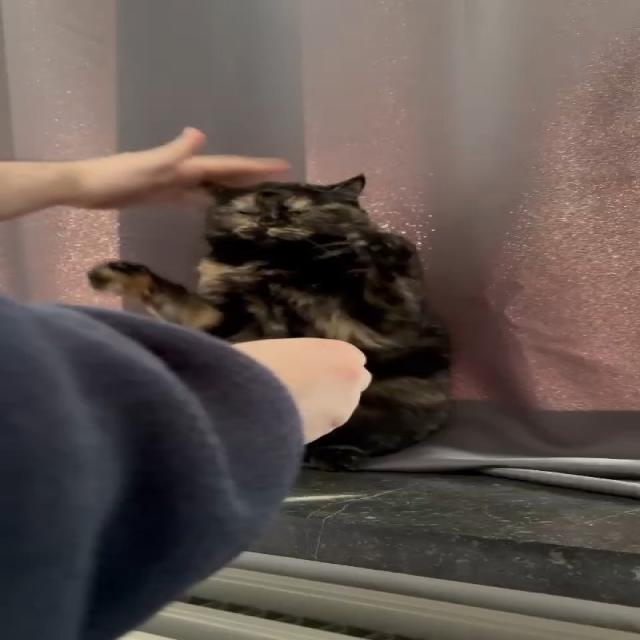authorized: (85, 172, 455, 472)
